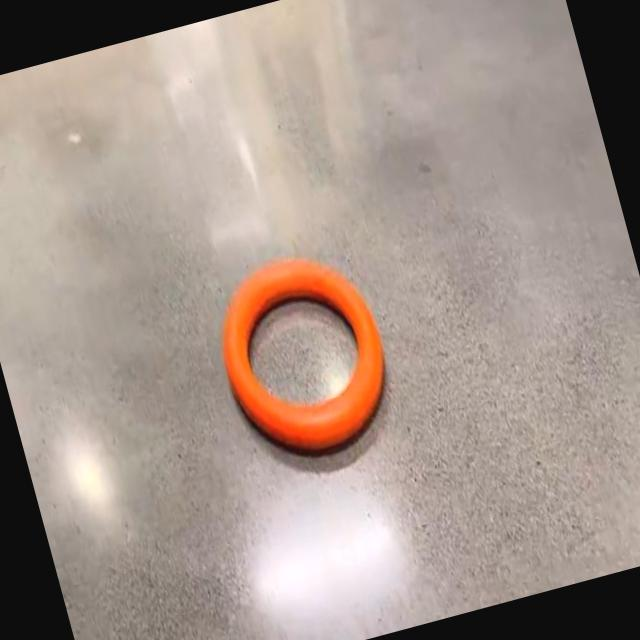note: (223, 258, 383, 449)
